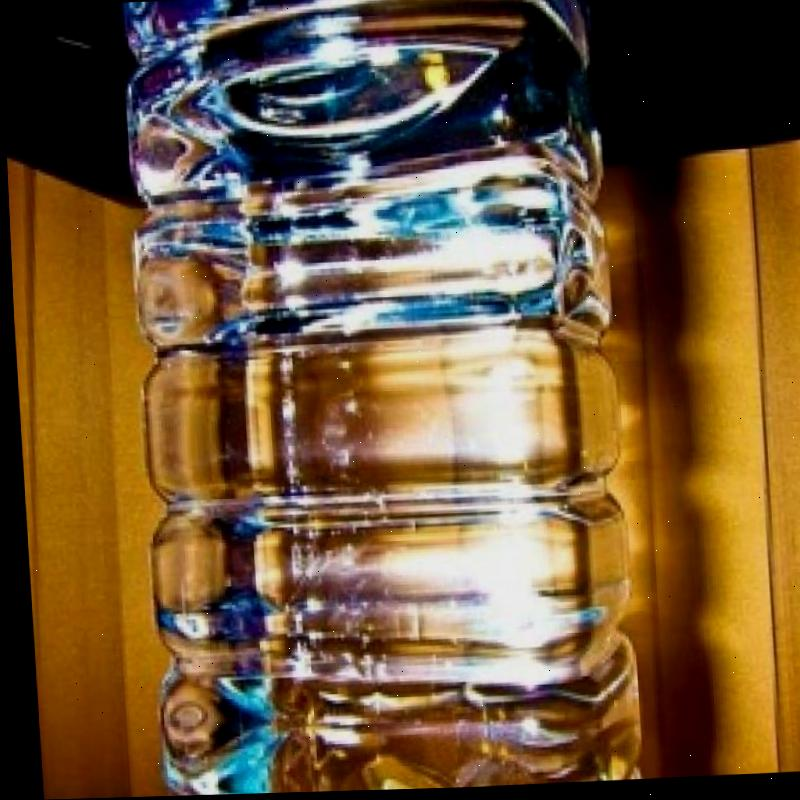botella: (108, 0, 635, 797)
